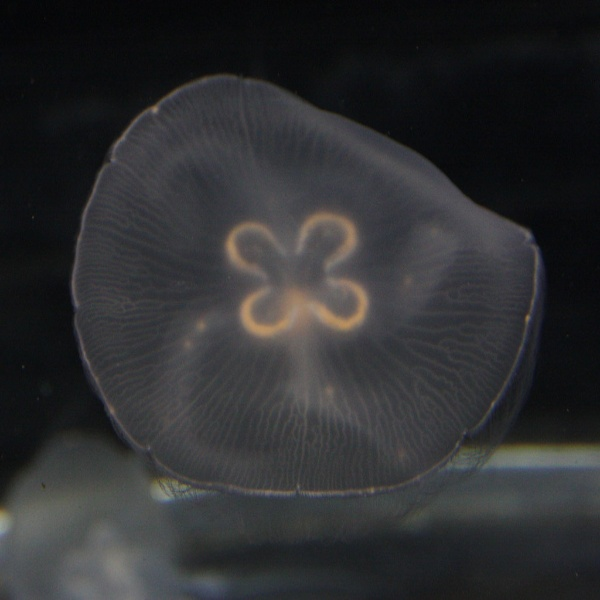Jellyfish: (67, 69, 548, 558)
